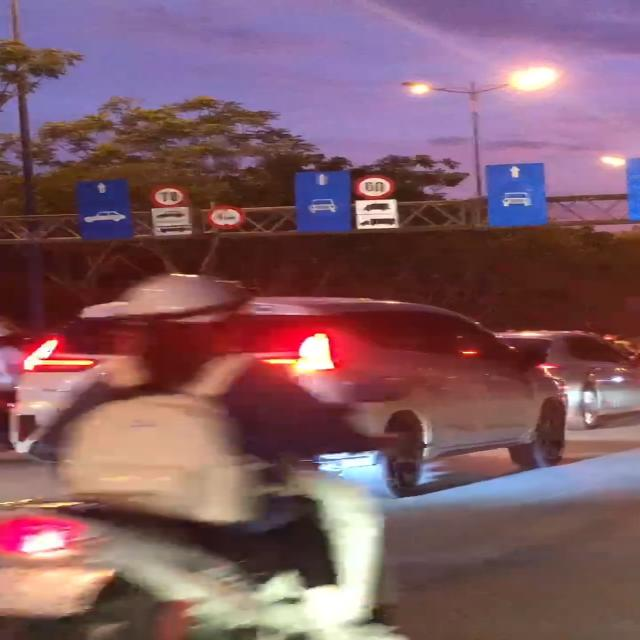Bien bao toc do toi da cho phep: (354, 174, 396, 202), (148, 184, 188, 210)
